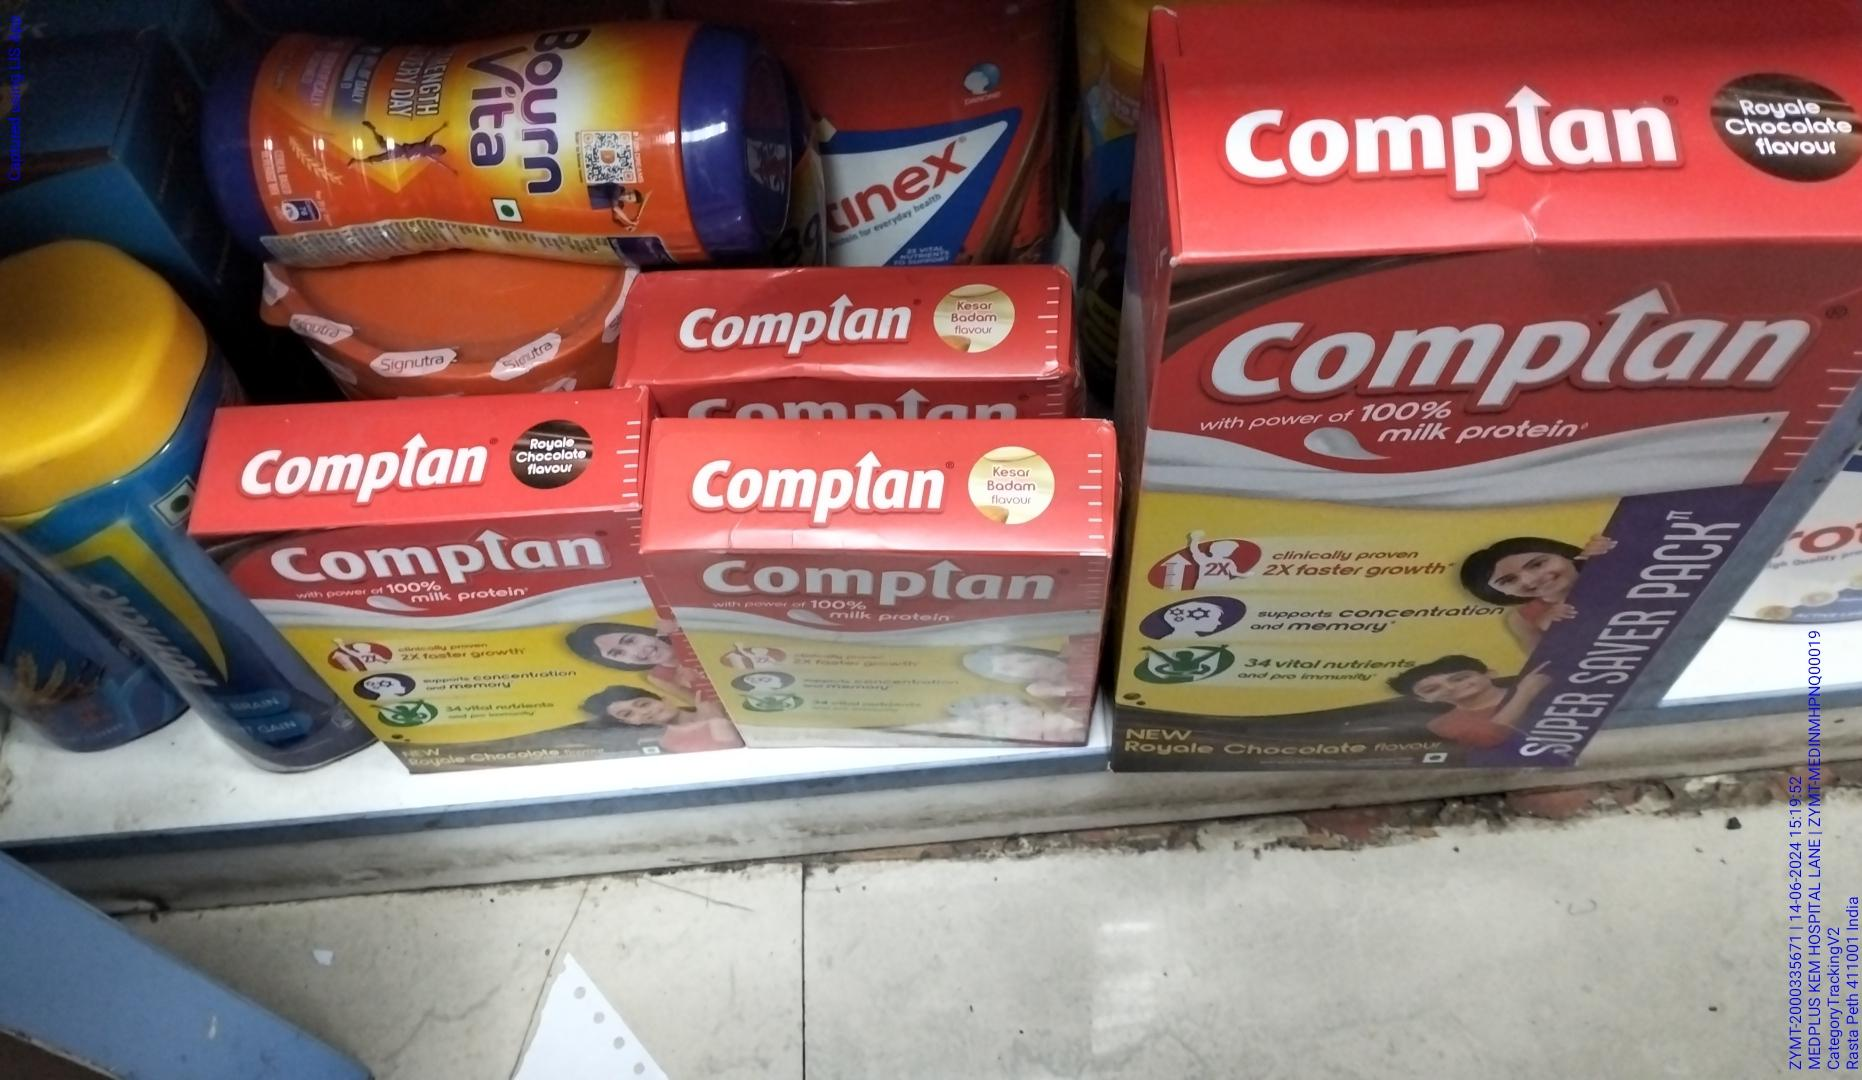COMPLAN_CHOCOLATE_1_KG_PACK: (1130, 226, 1807, 787)
